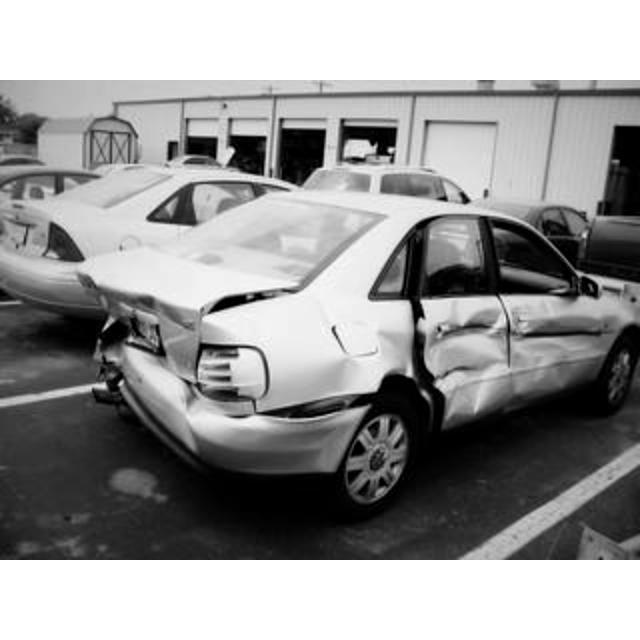boot-dent: (74, 256, 256, 366)
doorouter-dent: (410, 306, 512, 420), (510, 288, 598, 410)
quaterpanel-dent: (230, 298, 424, 420)
rear-bumper-dent: (90, 384, 330, 468)
